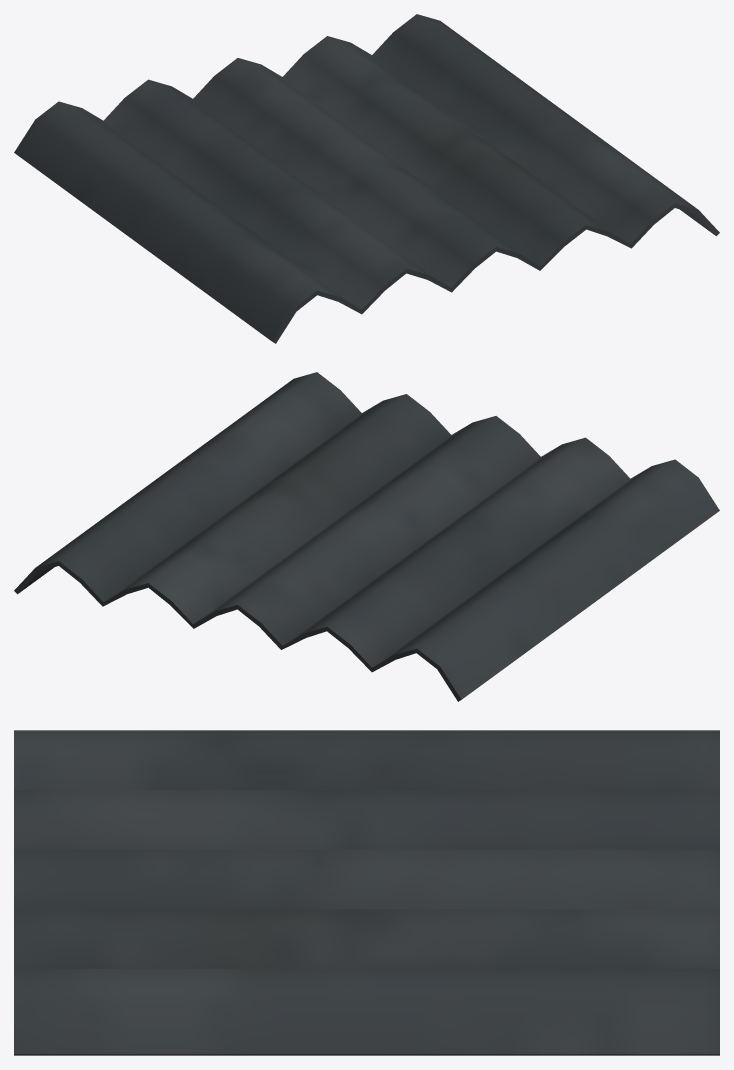
File: slate_short.obj
3 views of the same model, one above another, from view 1: azimuth 30°, elevation 25°; view 2: azimuth 150°, elevation 25°; view 3: azimuth 270°, elevation 25° (orthographic). The views are drawn at different scales.
Visible parts, largest first — view 1: slate_short__EXPORT_TEMP; view 2: slate_short__EXPORT_TEMP; view 3: slate_short__EXPORT_TEMP.
Part boxes in pixels (x1=…): slate_short__EXPORT_TEMP: x1=14, y1=14, x2=719, y2=343; slate_short__EXPORT_TEMP: x1=14, y1=372, x2=719, y2=701; slate_short__EXPORT_TEMP: x1=14, y1=730, x2=719, y2=1055.
Size of the model in its own units: 1 by 0.0925 by 1.
